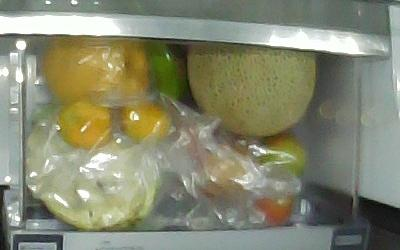cabbage_vinyl: (25, 111, 159, 230)
melon: (186, 42, 316, 137)
pear_vinyl: (43, 36, 150, 111)
prune_vinyl: (196, 153, 246, 197)
tangerine_vinyl: (58, 99, 113, 149), (121, 100, 172, 144)
tomato_vinyl: (256, 131, 307, 178), (253, 194, 293, 224)
zucchini: (146, 38, 186, 101)
